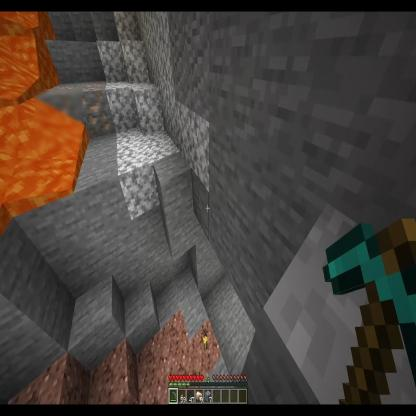iron ore: (35, 89, 82, 150), (80, 87, 118, 139)
